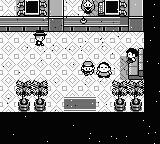main: (80, 61, 96, 77)
no-caminable: (1, 0, 160, 143), (16, 80, 48, 112), (112, 80, 144, 111), (0, 17, 49, 31), (16, 0, 49, 17), (97, 0, 129, 16), (94, 17, 128, 31), (128, 0, 143, 31), (49, 0, 63, 31), (63, 17, 78, 32)
npc: (96, 61, 112, 78), (34, 29, 46, 46), (81, 0, 95, 14), (126, 48, 139, 63)
puerta: (62, 95, 99, 112)
recuperarse: (79, 18, 94, 32)
